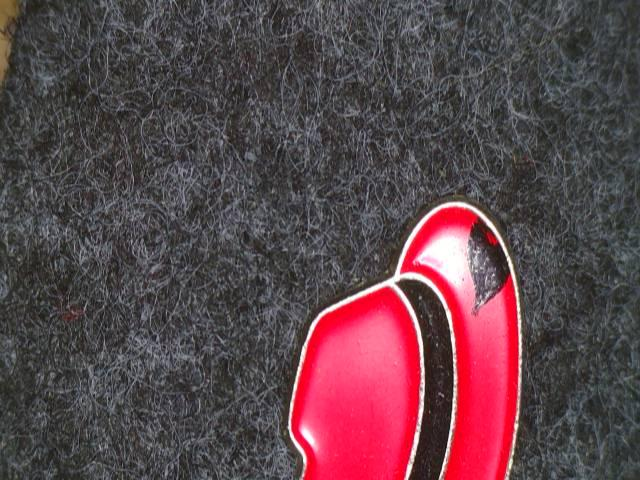Red-Hat: (266, 148, 566, 480)
Scratch: (447, 198, 541, 332)
